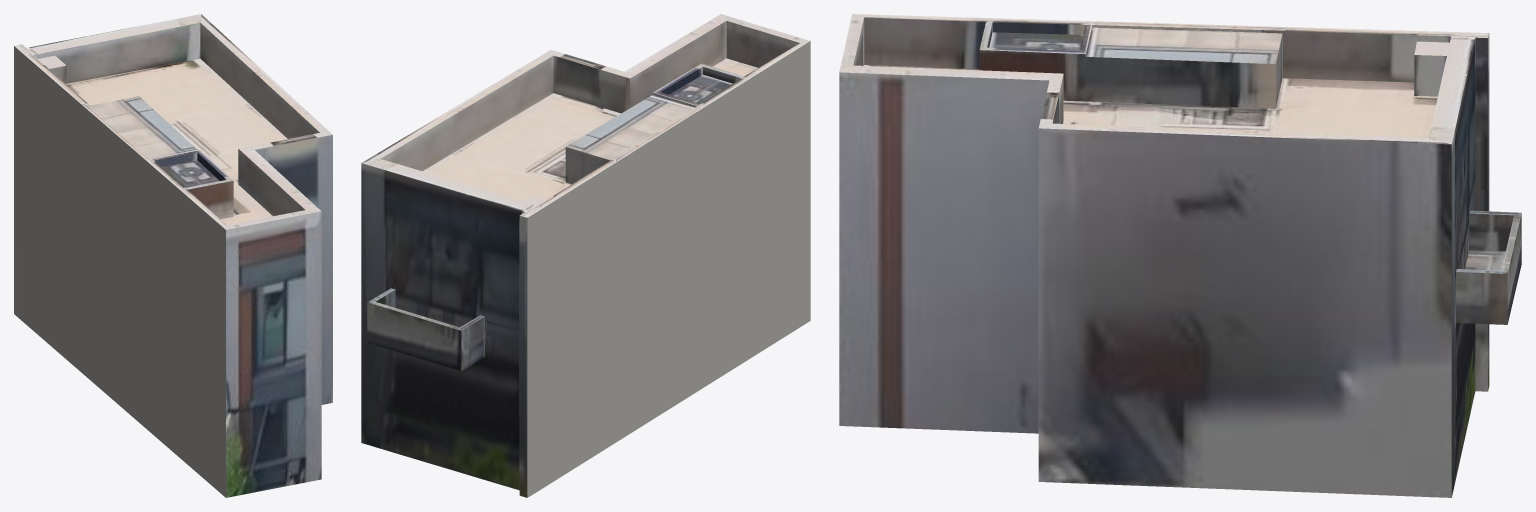
3 views of the same model, side by side, from view 1: azimuth 30°, elevation 25°; view 2: azimuth 150°, elevation 25°; view 3: azimuth 270°, elevation 25° (orthographic). The views are drawn at different scales.
Parts seen in each view (by area): view 1: B284264037901062A0; view 2: B284264037901062A0; view 3: B284264037901062A0.
Part boxes in pixels (<box>): B284264037901062A0: <box>14,14,332,497</box>; B284264037901062A0: <box>361,14,810,497</box>; B284264037901062A0: <box>839,14,1521,497</box>.
Size of the model in its own units: 7.32 by 9.25 by 16.19.
1 material, 1 textured.
